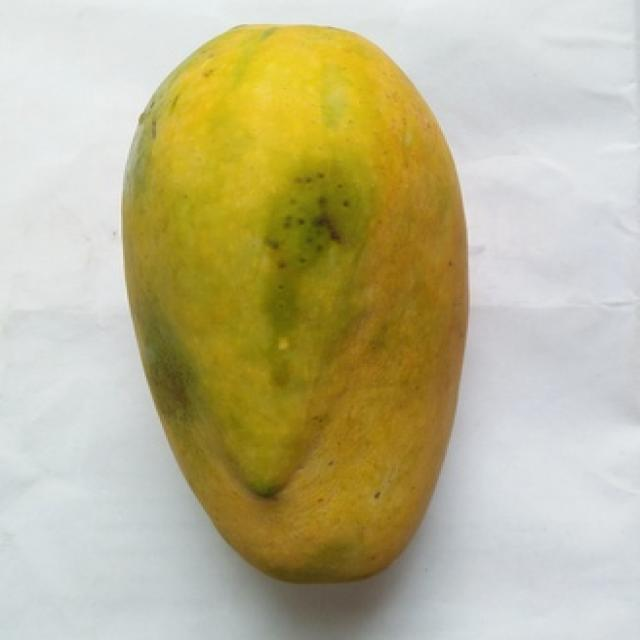Mango: (125, 26, 466, 581)
